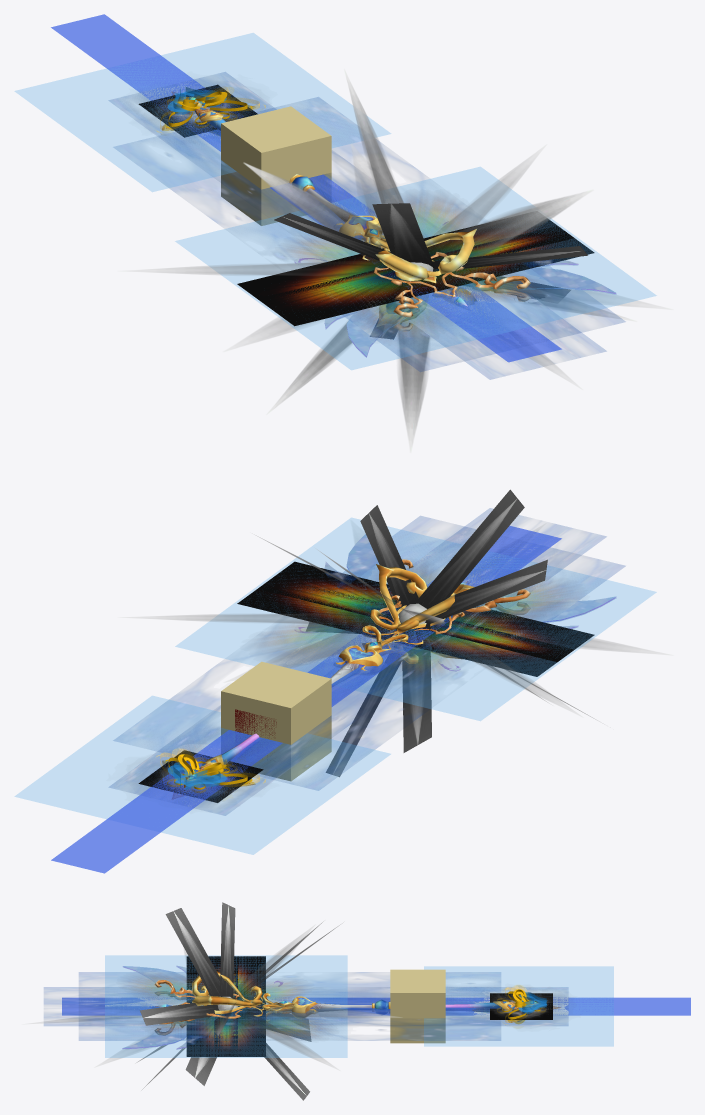
The picture shows the model from 3 angles, top to bottom: view 1: azimuth 30°, elevation 25°; view 2: azimuth 150°, elevation 25°; view 3: azimuth 270°, elevation 25°; orthographic projection. The views are drawn at different scales.
Parts seen in each view (by area): view 1: "object0139_Editable Poly", "object0344_Editable Poly", "object0312_Editable Poly", "object0101_Editable Poly", "object0307_Editable Poly", "object0190_Editable Poly", object0443_Box, "object0325_Editable Poly", "object0044_Editable Poly", "object0430_Editable Poly", "object0074_Editable Poly", "object0179_Editable Poly" (+6 smaller); view 2: "object0139_Editable Poly", "object0344_Editable Poly", "object0307_Editable Poly", "object0312_Editable Poly", "object0074_Editable Poly", "object0190_Editable Poly", "object0325_Editable Poly", object0443_Box, "object0430_Editable Poly", "object0044_Editable Poly", "object0179_Editable Poly", "object0155_Editable Poly" (+7 smaller); view 3: "object0139_Editable Poly", "object0344_Editable Poly", "object0312_Editable Poly", "object0325_Editable Poly", "object0074_Editable Poly", "object0307_Editable Poly", "object0190_Editable Poly", object0443_Box, "object0430_Editable Poly", "object0044_Editable Poly", "object0155_Editable Poly", "object0179_Editable Poly" (+7 smaller).
Boxes of the visible parts, bbox=[...] form: "object0139_Editable Poly": bbox=[175, 167, 656, 369]; "object0344_Editable Poly": bbox=[15, 33, 390, 191]; "object0312_Editable Poly": bbox=[114, 97, 625, 371]; "object0101_Editable Poly": bbox=[243, 69, 636, 452]; "object0307_Editable Poly": bbox=[51, 14, 561, 362]; "object0190_Editable Poly": bbox=[237, 216, 594, 326]; object0443_Box: bbox=[221, 106, 331, 225]; "object0325_Editable Poly": bbox=[109, 72, 606, 379]; "object0044_Editable Poly": bbox=[120, 144, 672, 389]; "object0430_Editable Poly": bbox=[162, 92, 530, 331]; "object0074_Editable Poly": bbox=[274, 203, 587, 339]; "object0179_Editable Poly": bbox=[258, 225, 574, 302]; "object0139_Editable Poly": bbox=[175, 518, 656, 720]; "object0344_Editable Poly": bbox=[15, 696, 390, 854]; "object0307_Editable Poly": bbox=[51, 525, 561, 873]; "object0312_Editable Poly": bbox=[114, 516, 625, 790]; "object0074_Editable Poly": bbox=[306, 489, 547, 777]; "object0190_Editable Poly": bbox=[237, 561, 594, 676]; "object0325_Editable Poly": bbox=[109, 508, 606, 815]; object0443_Box: bbox=[221, 661, 331, 781]; "object0430_Editable Poly": bbox=[162, 559, 530, 798]; "object0044_Editable Poly": bbox=[120, 520, 672, 716]; "object0179_Editable Poly": bbox=[258, 576, 574, 662]; "object0155_Editable Poly": bbox=[268, 584, 565, 652]; "object0139_Editable Poly": bbox=[105, 955, 347, 1057]; "object0344_Editable Poly": bbox=[424, 966, 613, 1046]; "object0312_Editable Poly": bbox=[79, 972, 500, 1040]; "object0325_Editable Poly": bbox=[44, 987, 568, 1026]; "object0074_Editable Poly": bbox=[140, 902, 311, 1100]; "object0307_Editable Poly": bbox=[62, 997, 690, 1015]; "object0190_Editable Poly": bbox=[186, 956, 265, 1056]; object0443_Box: bbox=[390, 969, 445, 1043]; "object0430_Editable Poly": bbox=[154, 971, 560, 1035]; "object0044_Editable Poly": bbox=[27, 924, 401, 1070]; "object0155_Editable Poly": bbox=[133, 976, 322, 1036]; "object0179_Editable Poly": bbox=[214, 956, 237, 1056].
Bounding box in the file's own units: 1.72 × 0.8962 × 3.05.
